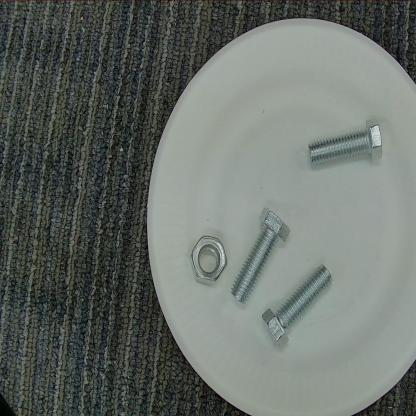FOD: (224, 206, 302, 301), (260, 260, 337, 349), (306, 112, 387, 172), (184, 230, 230, 286)
